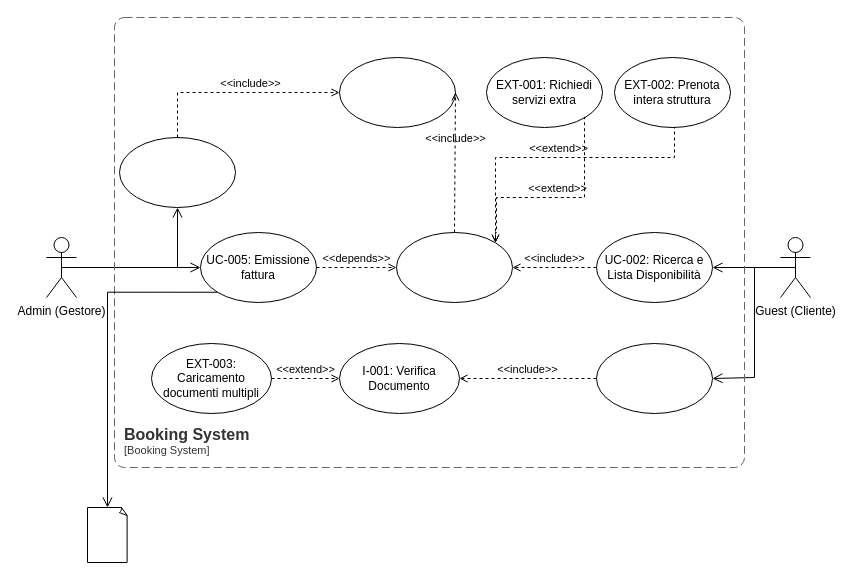
The diagram is 853 pixels wide and 580 high, and some of its shapes have lost their labels. The centre of each missing label's shape, as x and y in pixels:
"UC-000: Login" goes at pixel 397 92.
"UC-001: Configura Struttura" goes at pixel 177 172.
"UC-004: Check-in Digitale" goes at pixel 654 378.
"UC003: Prenota Singola Camera" goes at pixel 454 267.
